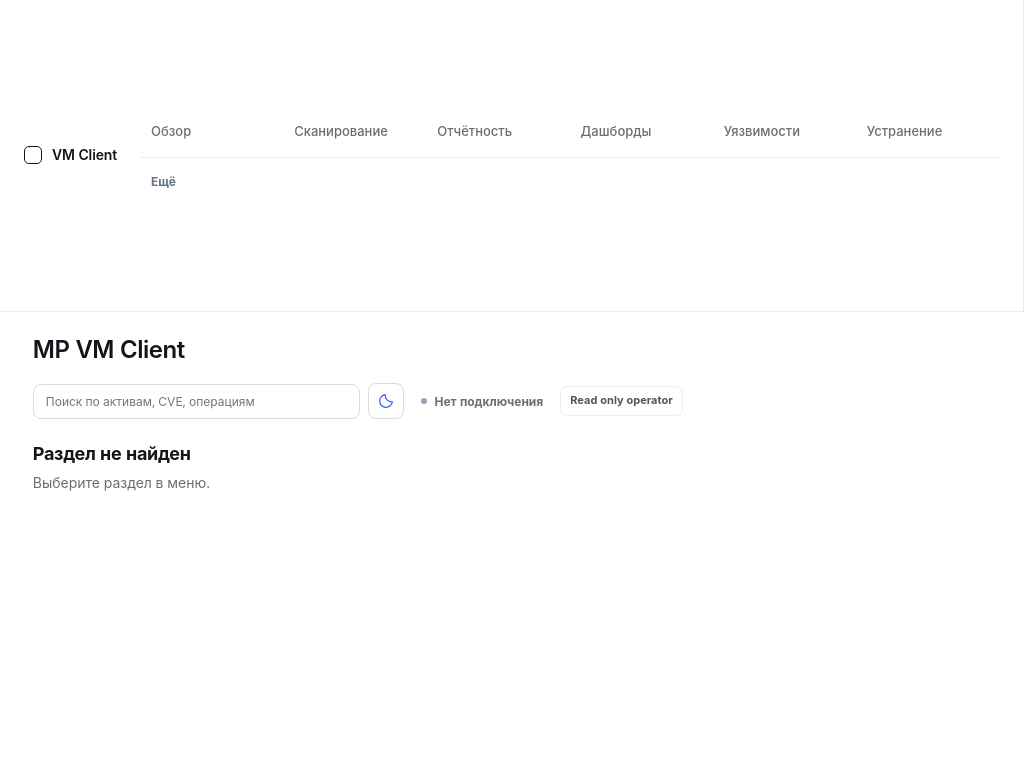
complete application composition › handles an unknown URL with a recovery navigation
The image size is (1024, 768).
expect the heading "Раздел не найден" is shown: met, box [33,441,210,467]
Click the link "Уязвимости": (762,131) [724,123,800,139]
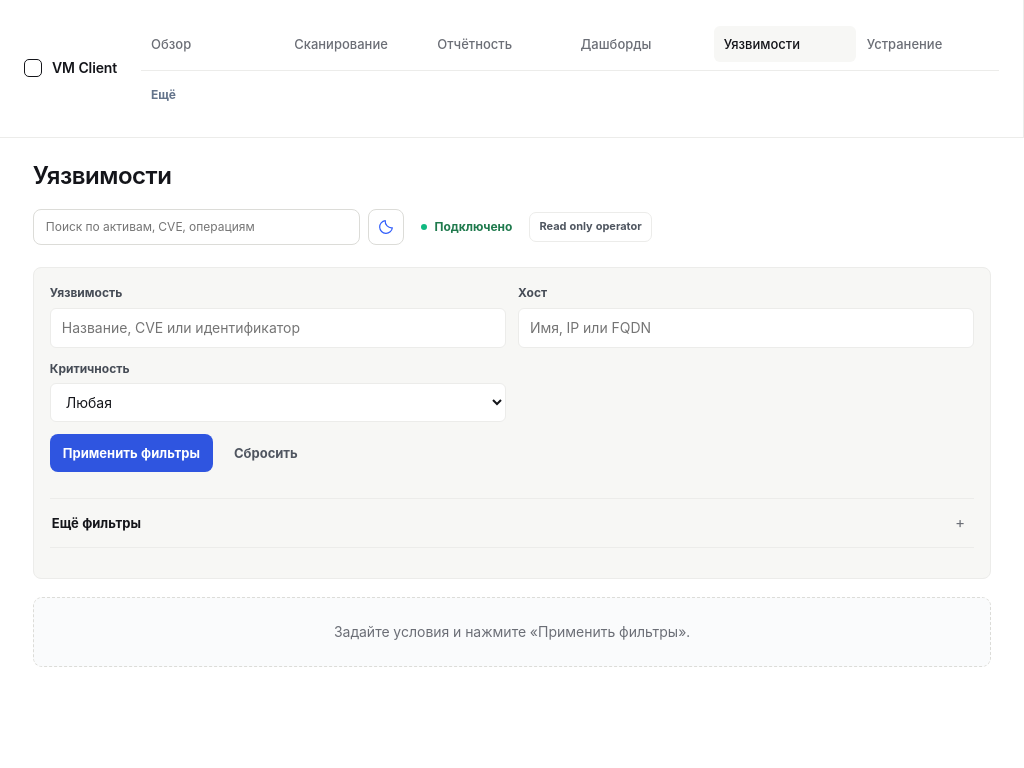
expect the heading "Уязвимости" is shown: met, box [33,160,171,190]
expect the heading "Раздел не найден" is gone: met
